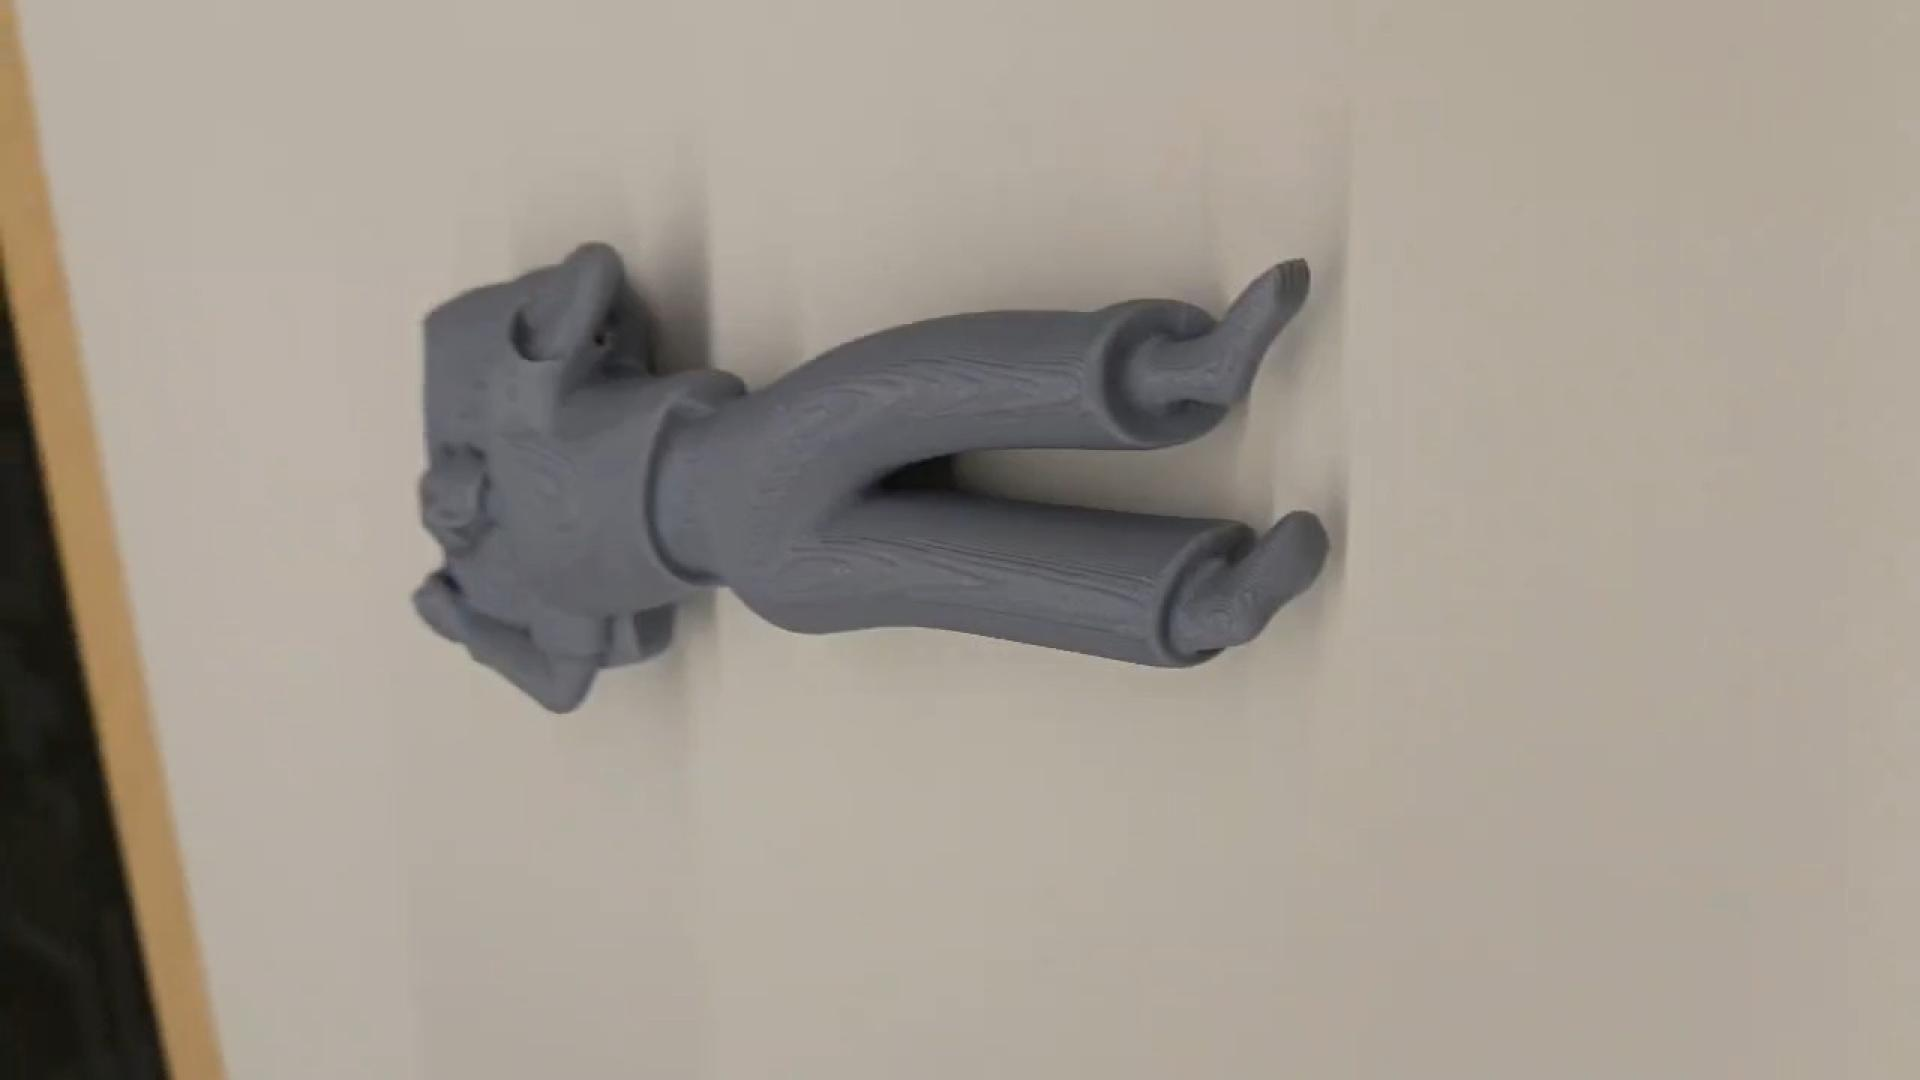Bad-style: (409, 247, 1329, 716)
